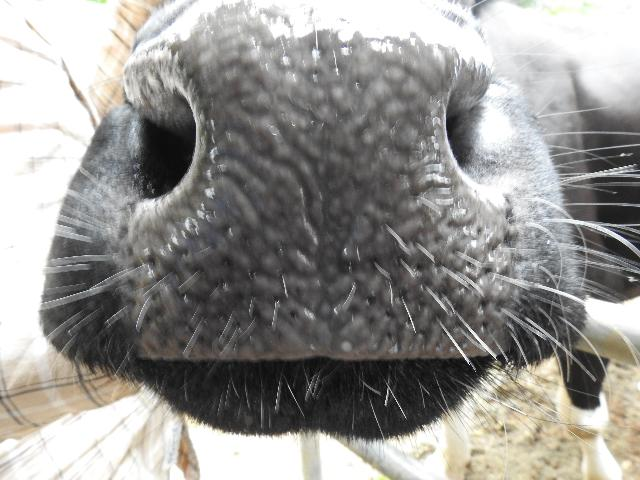Muzzle: (177, 21, 463, 341)
